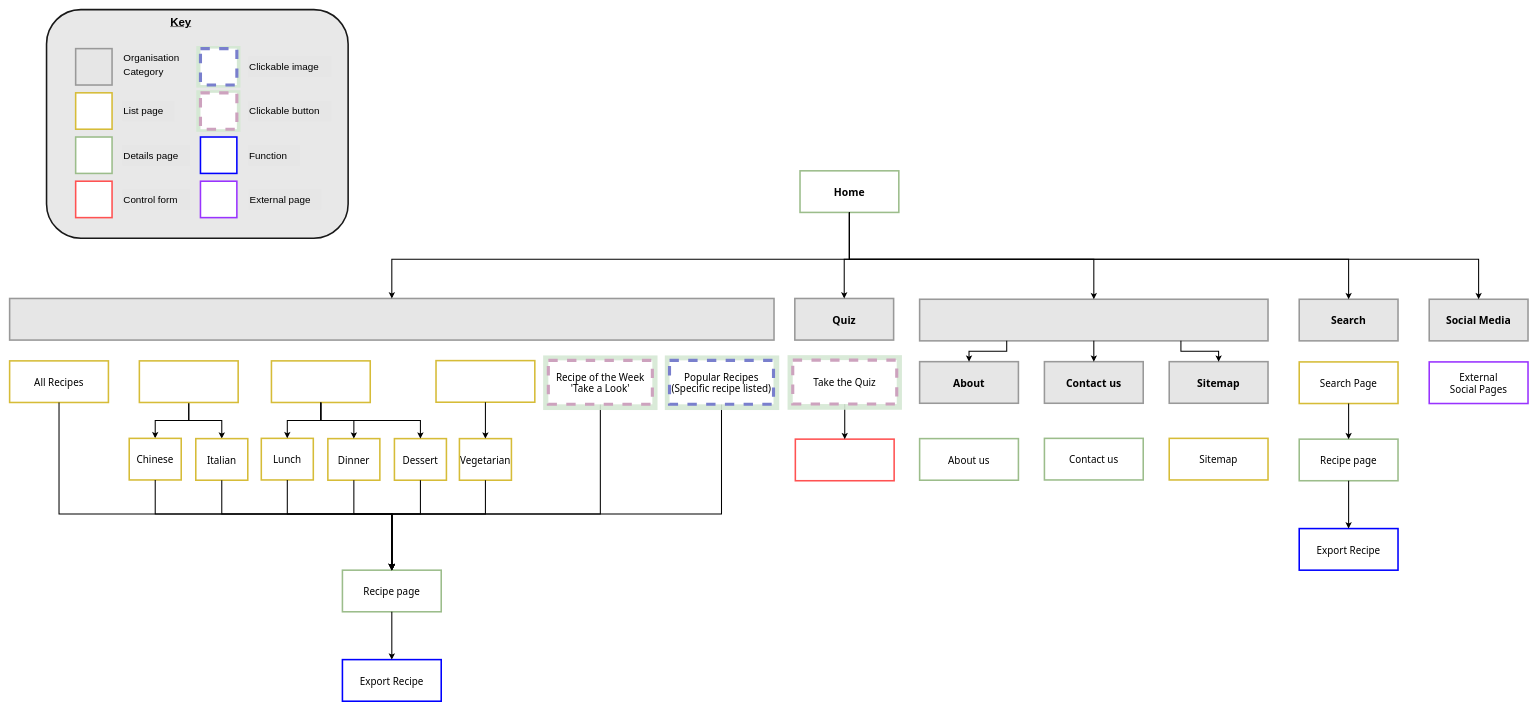
Image size: 1538x711. Some labels were removed from this diagram. The shapes that lost their labels are listed below. From the top down, each one's centre as x and y in pixels, then its label:
At (392,319): "Recipes".
At (1094,319): "Footer section".
At (188,381): "Cuisine".
At (320,381): "Courses".
At (485,381): "Diet".
At (844,459): "Quiz page".
